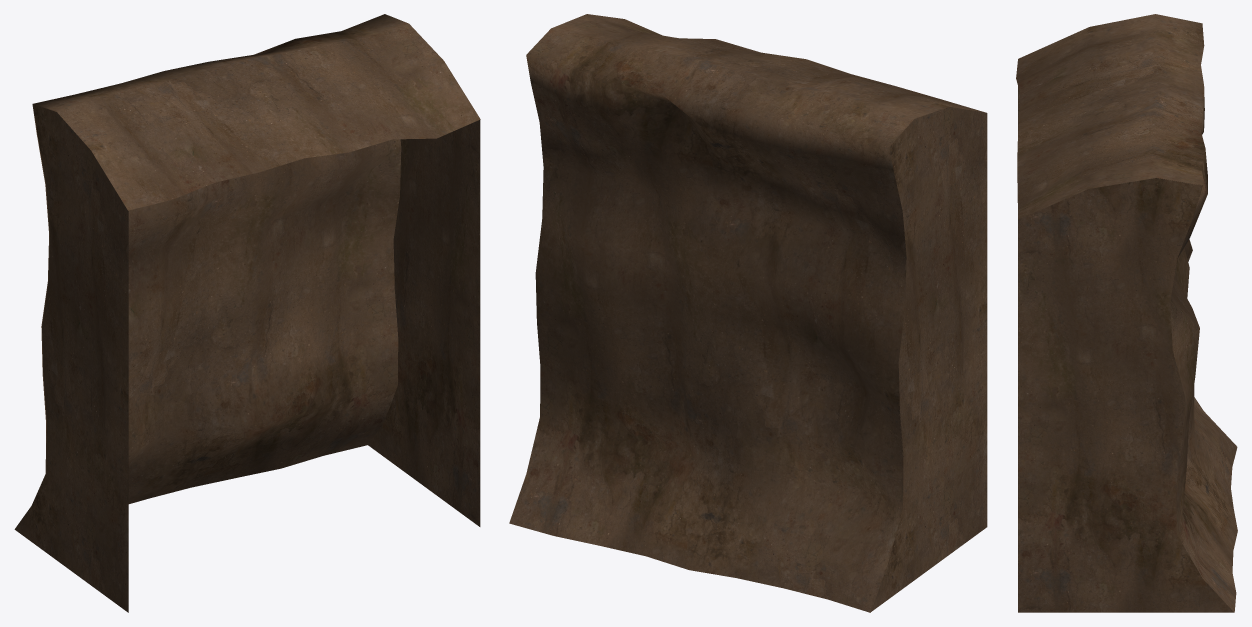
File: S7U_EarthBank_2m_C_LOD1.fbx
3 renders of one model, left to right at view 1: azimuth 30°, elevation 25°; view 2: azimuth 150°, elevation 25°; view 3: azimuth 270°, elevation 25°, orthographic. The views are drawn at different scales.
Visible parts, largest first — view 1: S7U_EarthBank_2m_C_LOD1; view 2: S7U_EarthBank_2m_C_LOD1; view 3: S7U_EarthBank_2m_C_LOD1.
Boxes of the visible parts, x1,y1,x2,y2 form: S7U_EarthBank_2m_C_LOD1: (14, 14, 480, 612); S7U_EarthBank_2m_C_LOD1: (509, 14, 987, 612); S7U_EarthBank_2m_C_LOD1: (1016, 14, 1237, 612).
Bounding box in the file's own units: 2 × 2.47 × 1.13.
